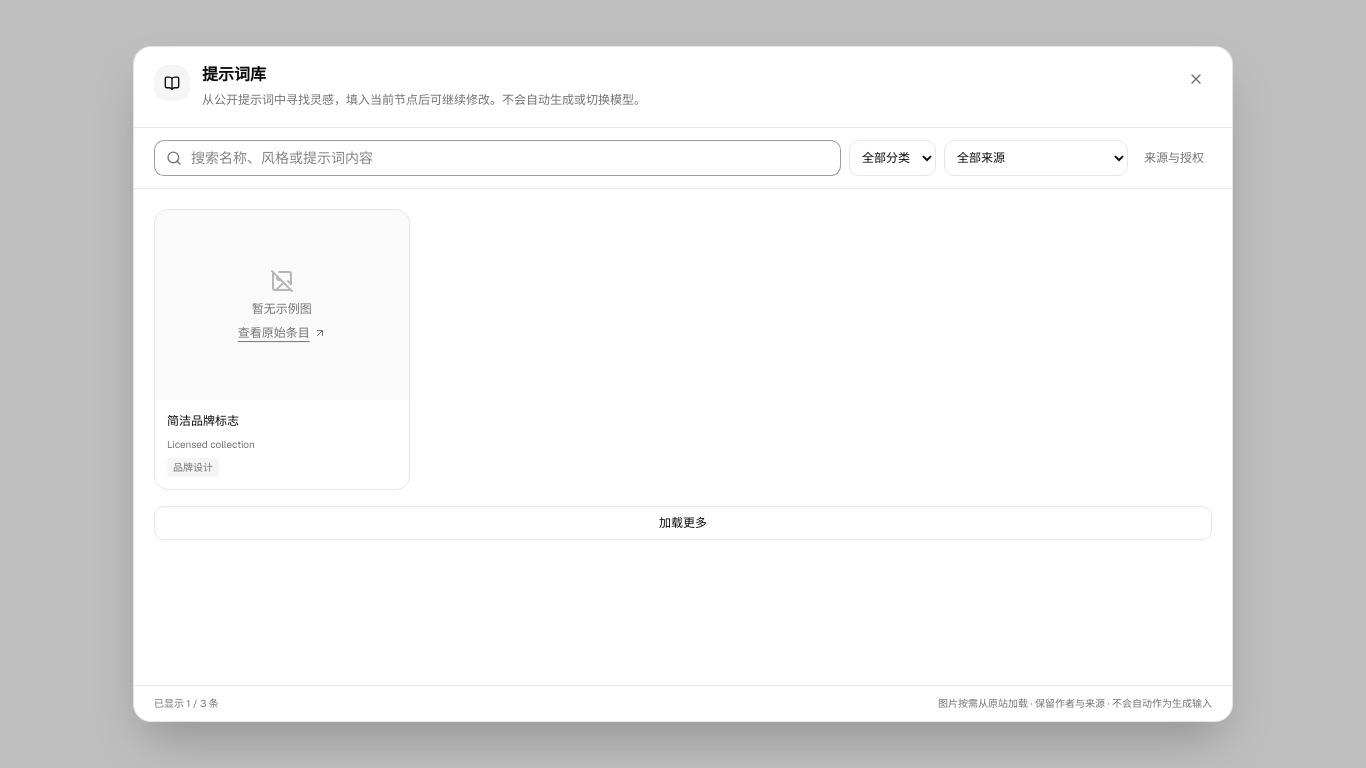
prompt library dialog › paginates without duplicate cards and keeps the selected detail
Click the button "简洁品牌标志 Licensed collection 品牌设计": coordinates (282, 444) x1=155 y1=400 x2=408 y2=489
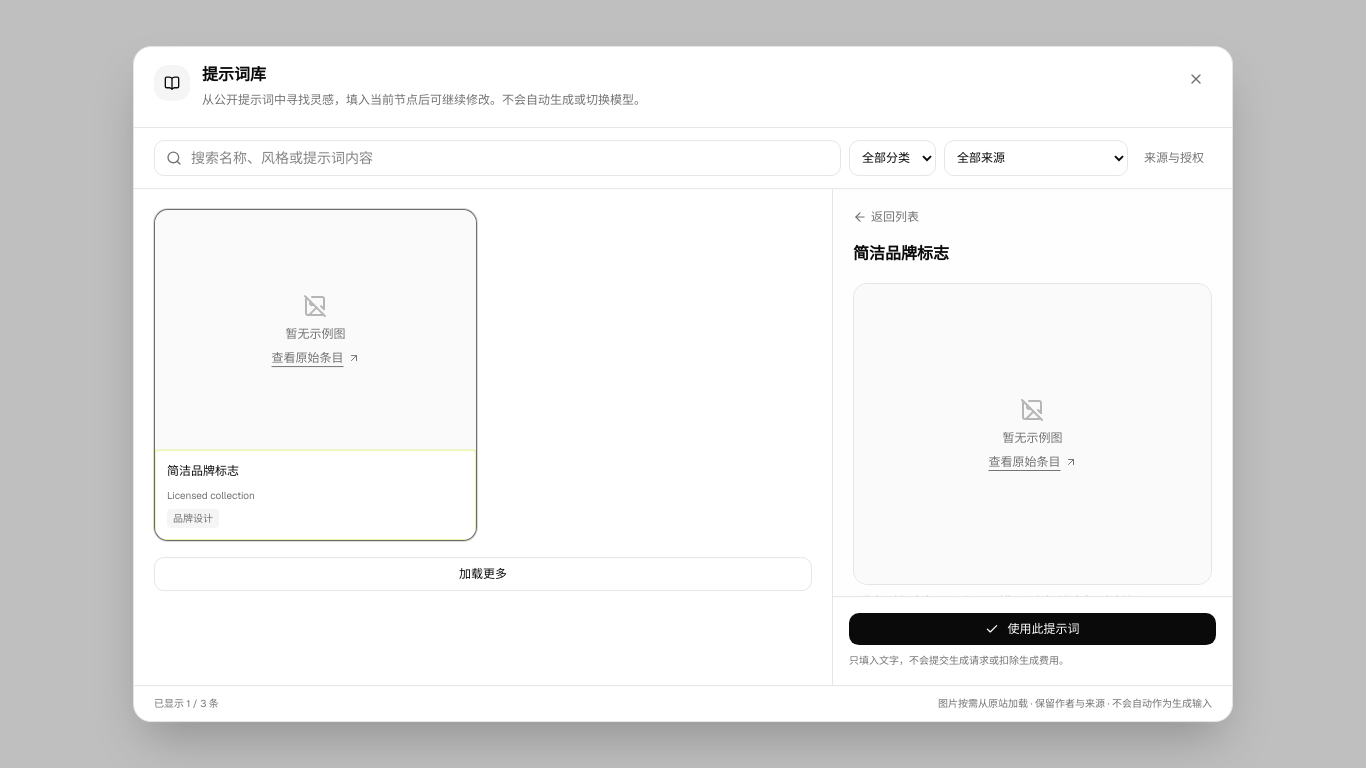
Click the button "加载更多": coordinates (483, 574) x1=154 y1=557 x2=812 y2=591
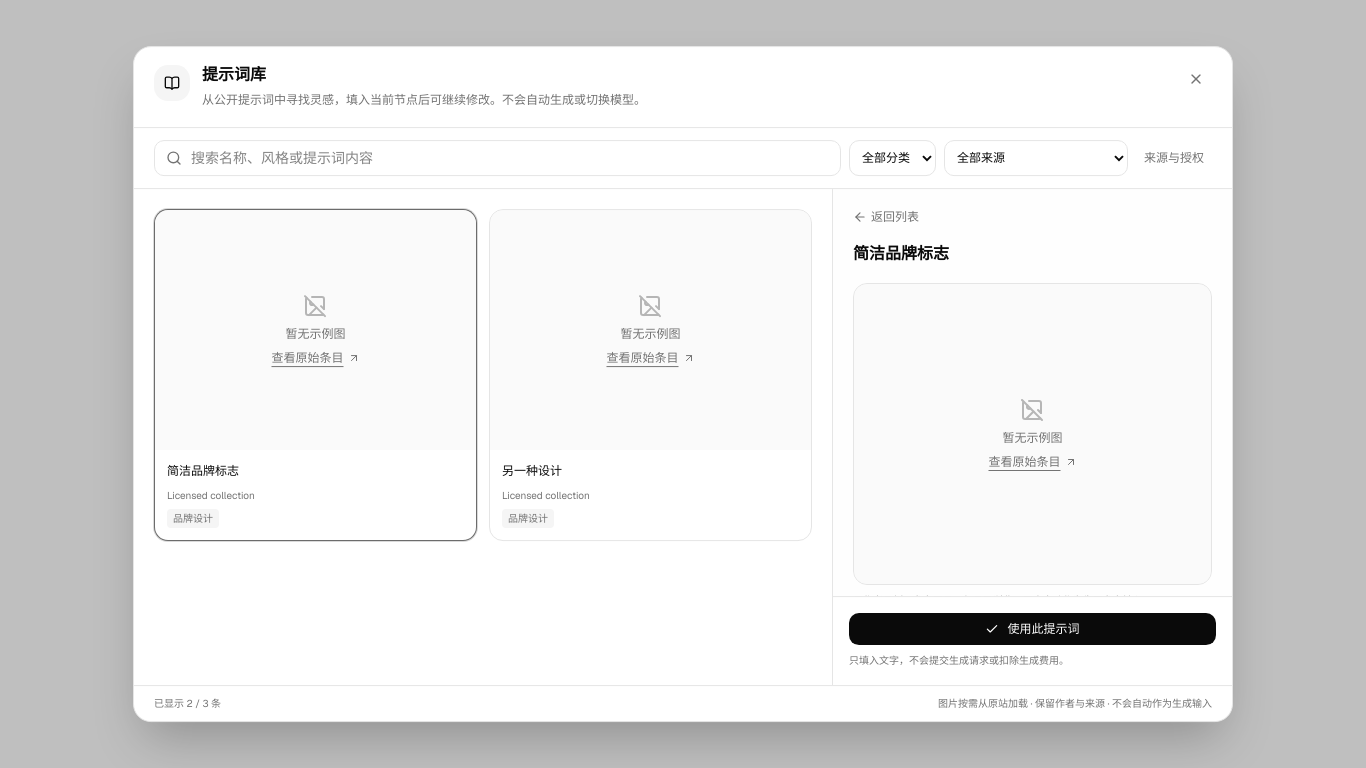
Check: the element named "提示词详情" is shown, box x1=832 y1=189 x2=1232 y2=685
Check: the button with aria-label "查看提示词：另一种设计" is shown, box x1=490 y1=450 x2=811 y2=540
